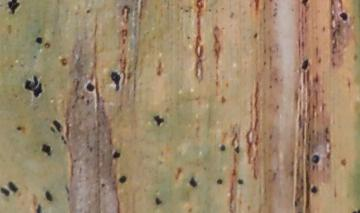tarspot: (21, 71, 47, 100), (105, 68, 125, 94), (150, 111, 168, 129), (5, 1, 22, 20), (50, 116, 65, 137), (38, 139, 54, 158), (184, 175, 203, 191), (6, 177, 22, 195), (306, 150, 323, 166), (296, 57, 314, 72), (336, 8, 352, 24), (82, 79, 97, 96), (108, 147, 124, 162), (307, 181, 321, 197), (43, 187, 55, 205), (115, 172, 130, 186), (31, 34, 47, 46), (31, 201, 46, 213), (211, 175, 226, 187), (217, 141, 229, 156), (233, 176, 248, 187), (152, 195, 164, 208), (12, 123, 25, 134), (232, 143, 243, 156), (1, 186, 11, 199)
